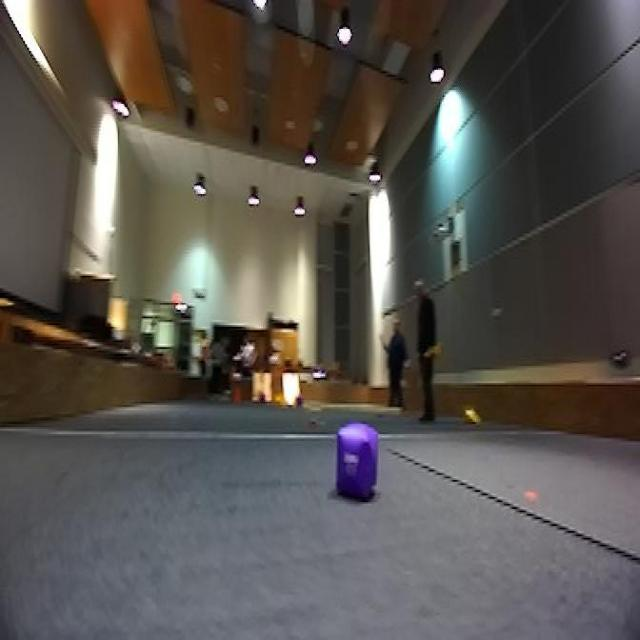frc_cone: (460, 397, 482, 427), (424, 340, 443, 362), (266, 390, 288, 407)
frc_cube: (332, 422, 378, 504), (253, 390, 268, 407), (294, 392, 307, 408)
